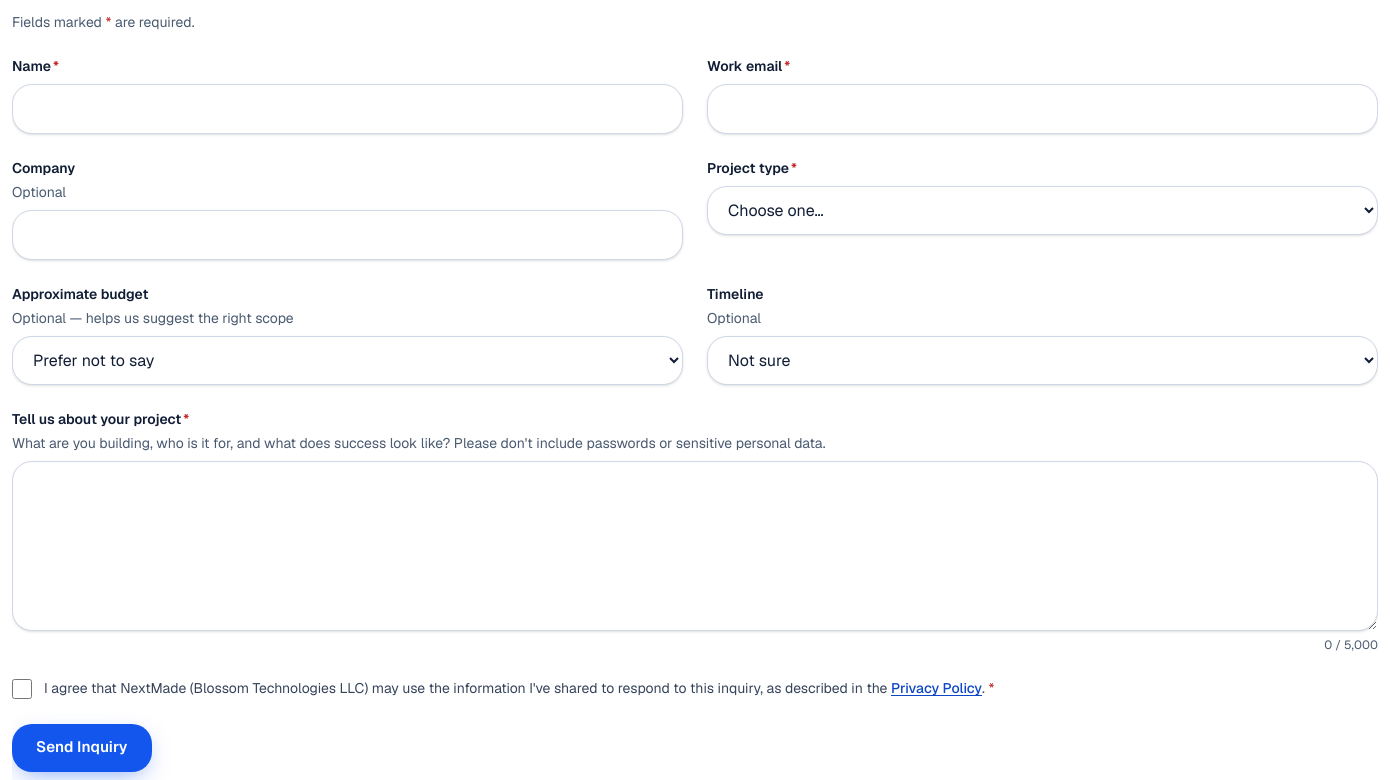
Test: ProjectInquiryForm › never shows success when the server is unconfigured, and offers a prefilled email
Type "Jordan Rivera" into the field labelled "Name*". click: (348, 109)
box: left=12, top=84, right=683, bottom=134
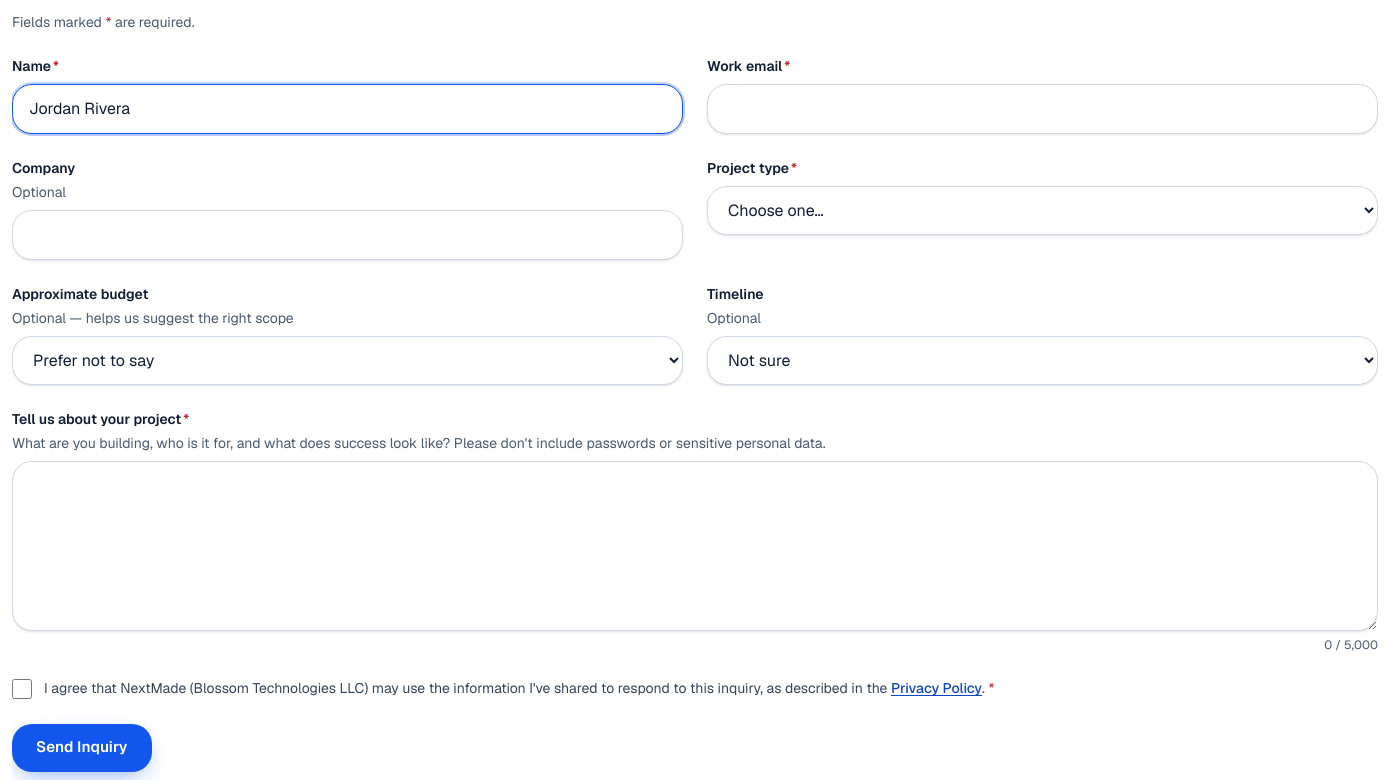
Type "jordan@example.com" into the field labelled "Work email*". click: (1042, 109)
box: left=707, top=84, right=1378, bottom=134
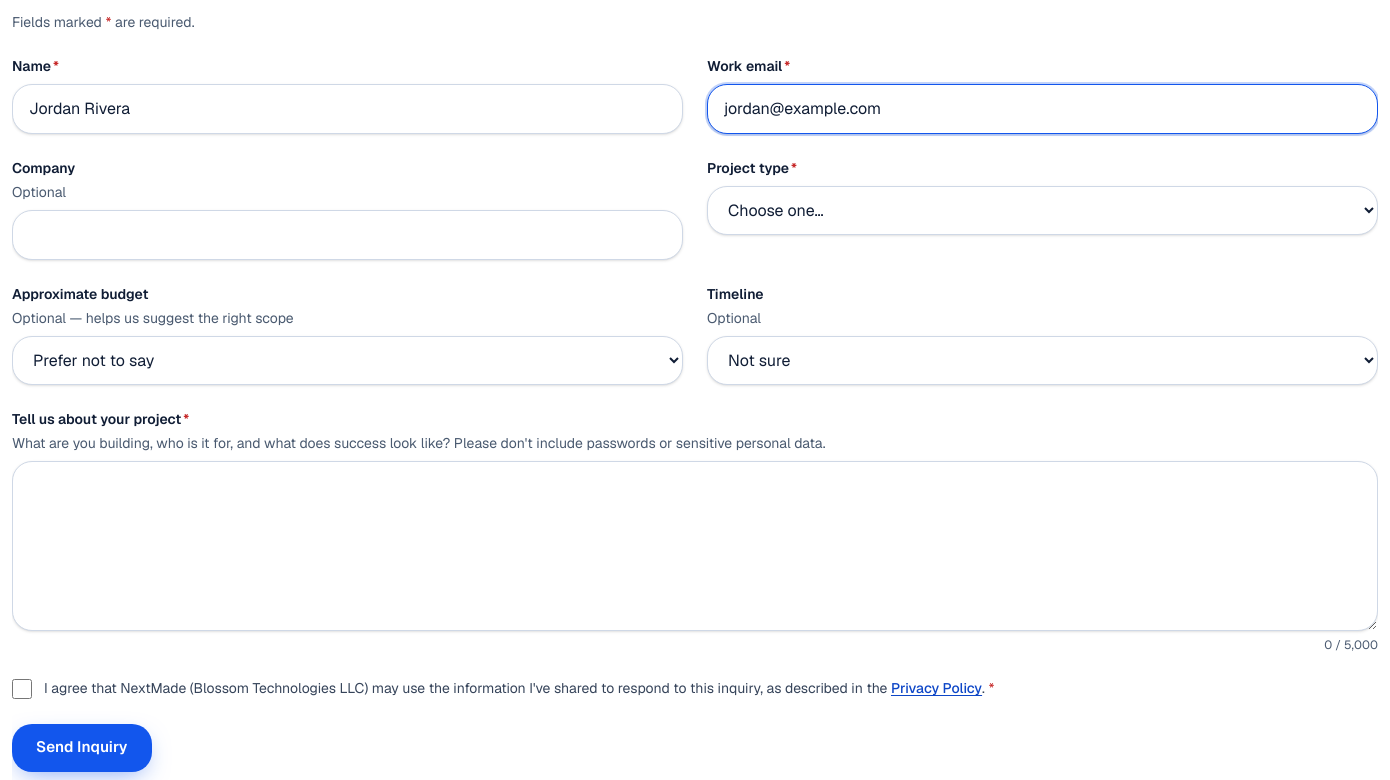
Select "New product / MVP" in the dropdown labelled "Project type*". click: (1042, 210)
box: left=707, top=186, right=1378, bottom=235
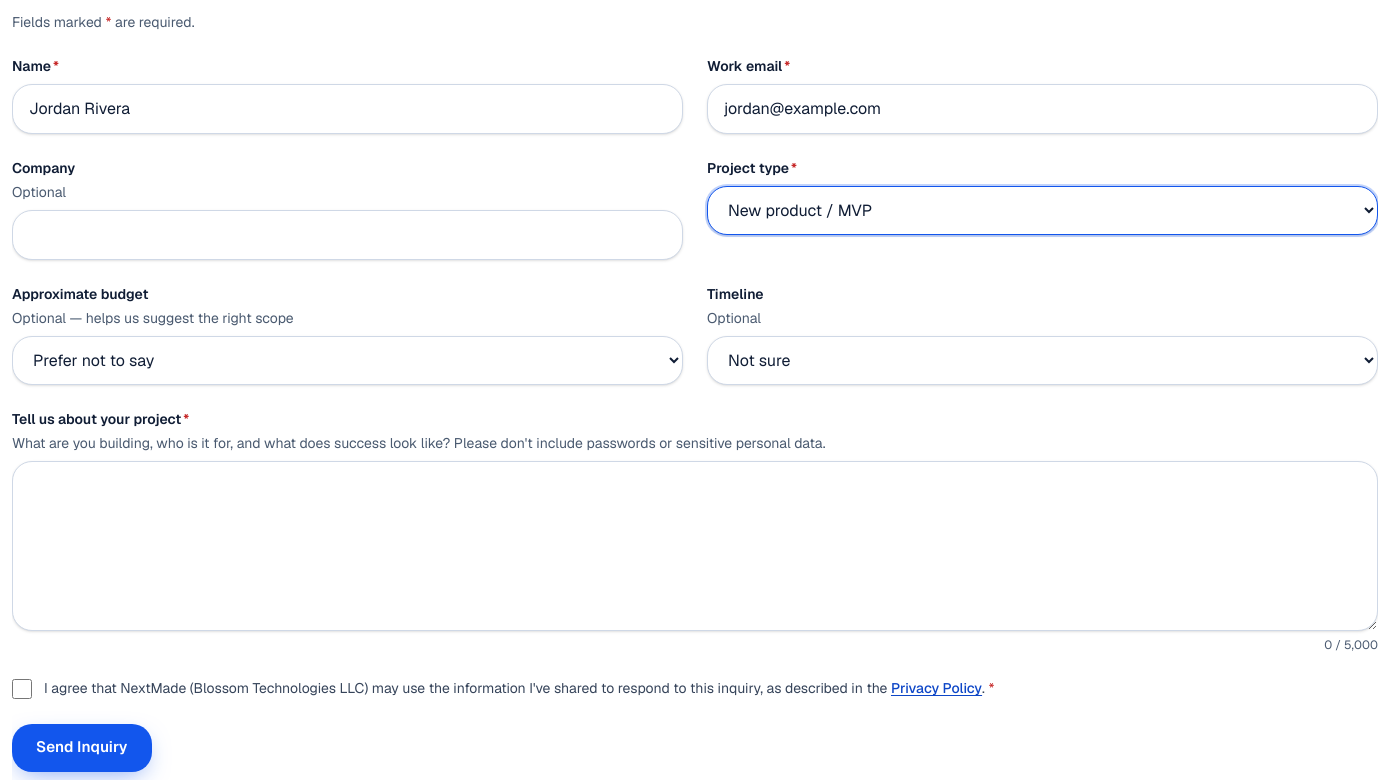
Type "A booking tool for independent studios with payments." into the text box labelled "Tell us about your project*". click: (695, 546)
box: left=12, top=461, right=1378, bottom=631
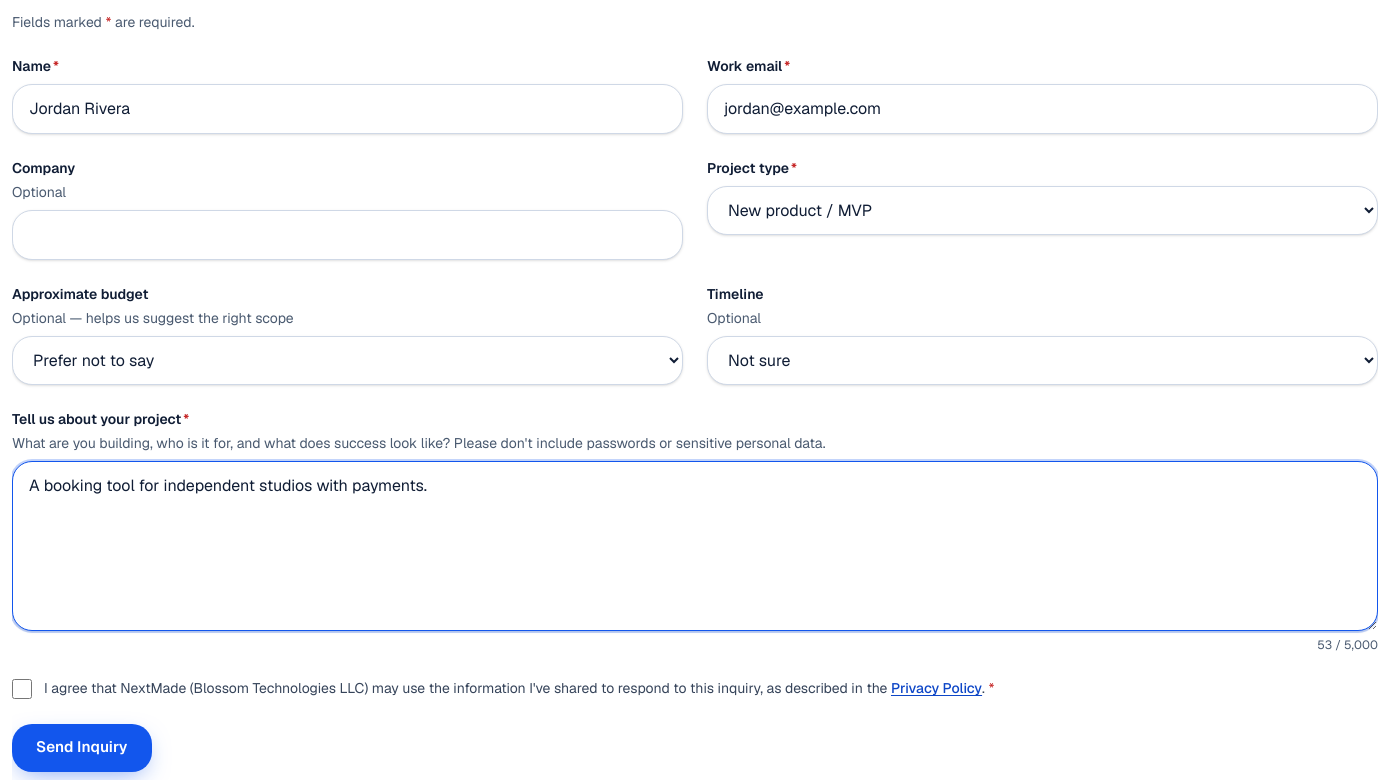
Click the checkbox. click: (22, 689)
box: left=12, top=679, right=32, bottom=699
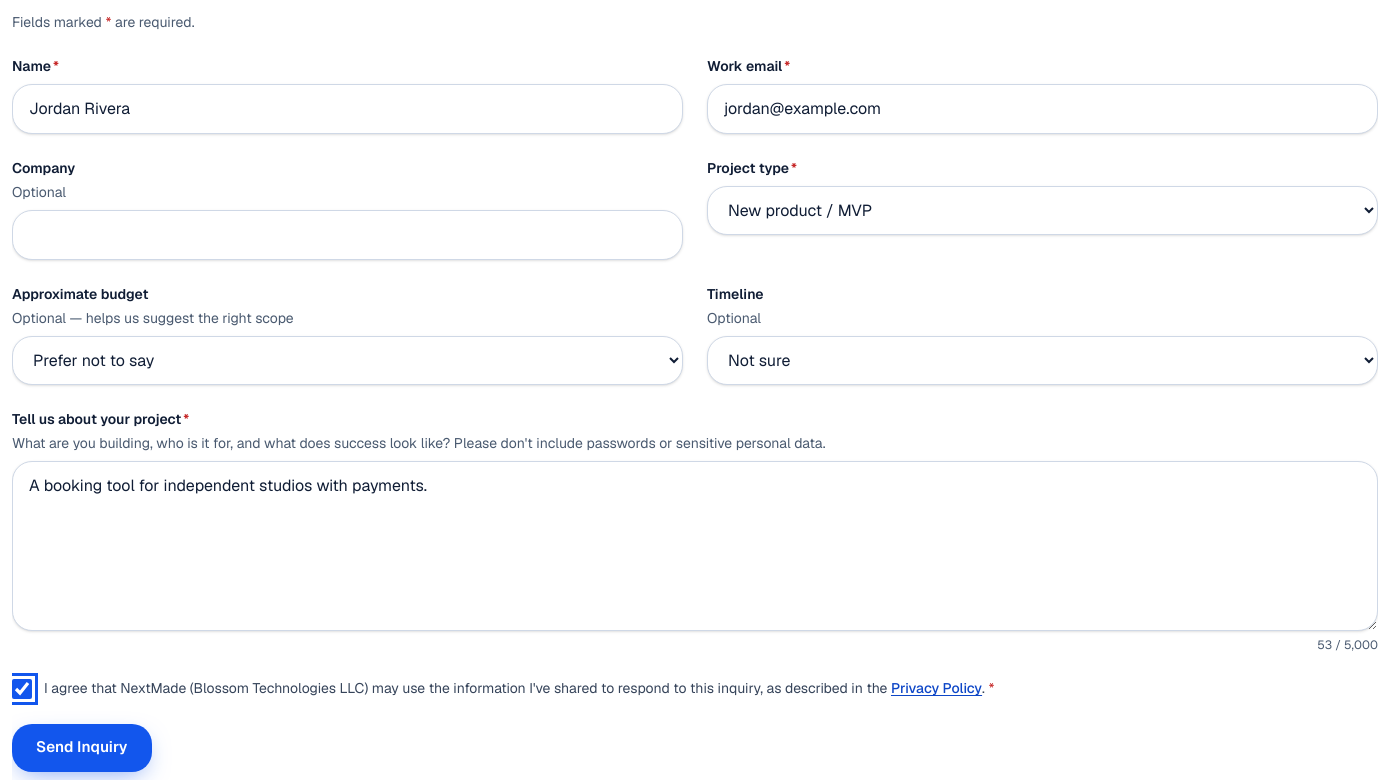
Click the button "Send Inquiry". click: (82, 748)
box: left=12, top=724, right=152, bottom=772
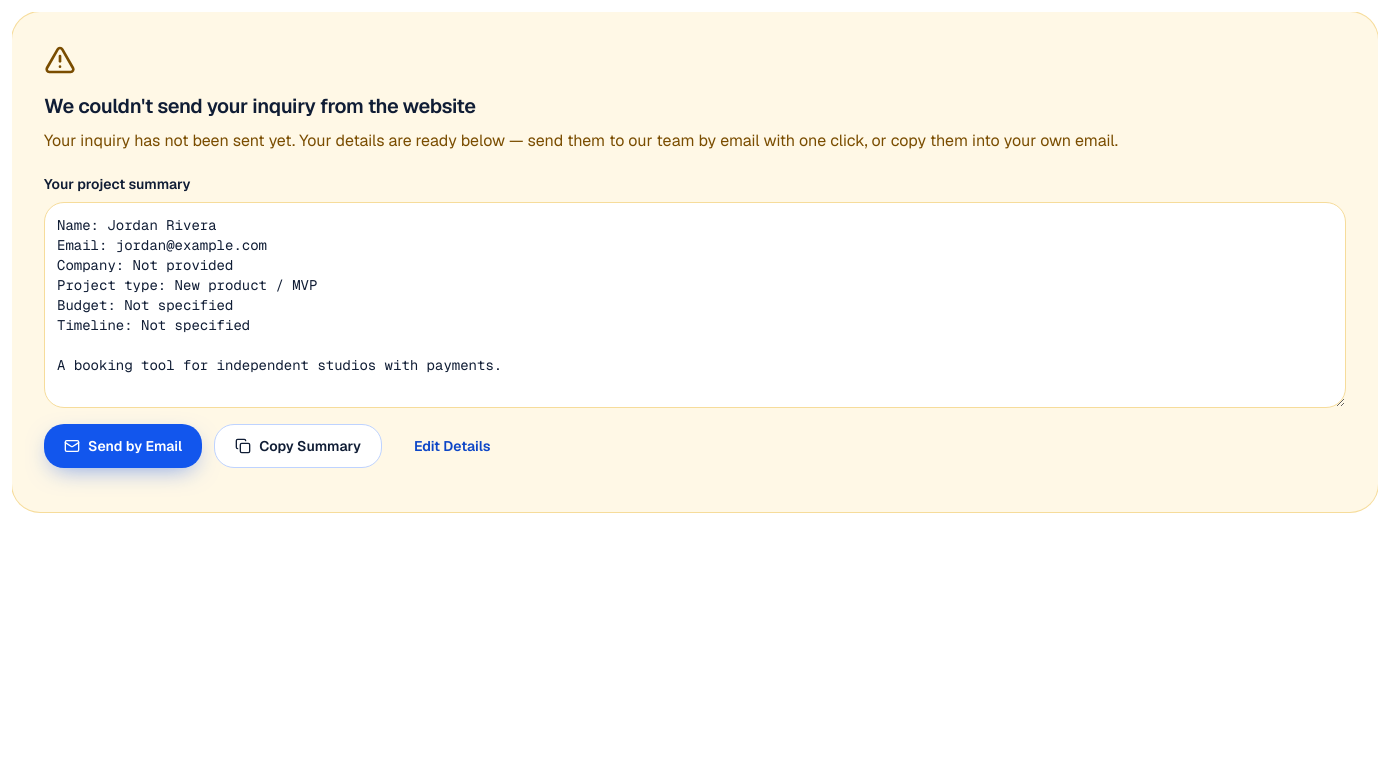
Check: the heading "We couldn't send your inquiry from the website" is shown, box left=44, top=93, right=476, bottom=119
